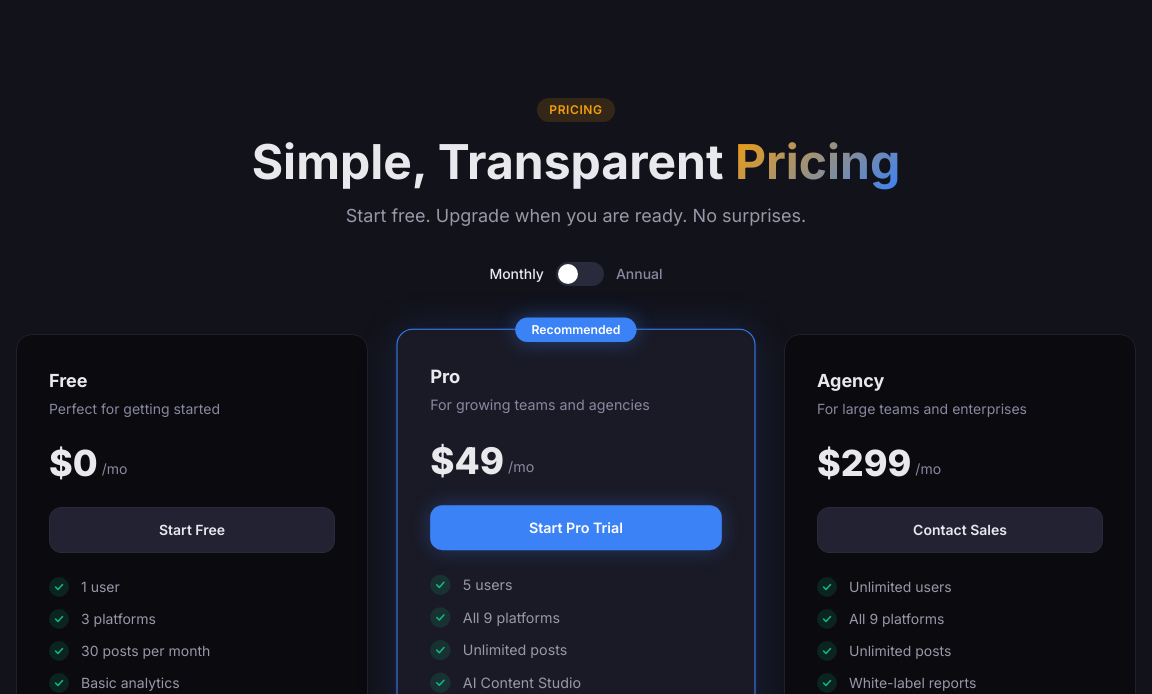
Test: PricingSection › monthly/annual toggle › switches to annual prices when toggle is clicked
Step 1. Click the button named "Toggle annual pricing" → (580, 274), box [556,262,604,286]
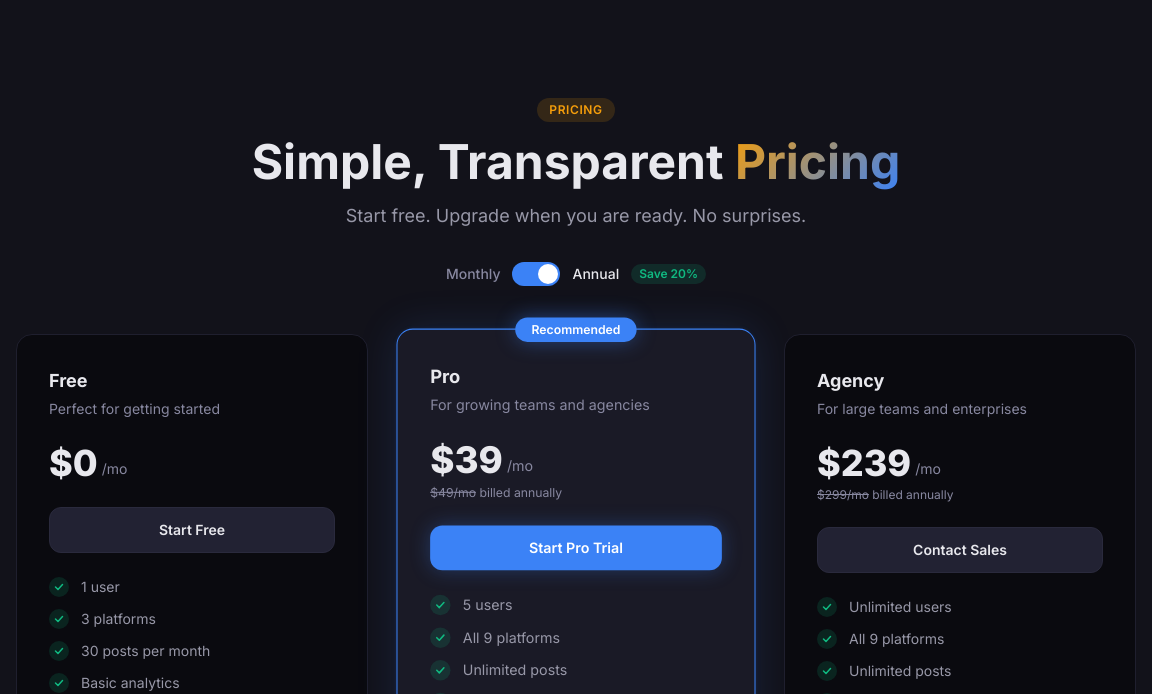
Expected: the text "$0" is shown, [49,443,98,483]
Expected: the text "$39" is shown, [430,440,503,481]
Expected: the text "$239" is shown, [817,443,911,483]
